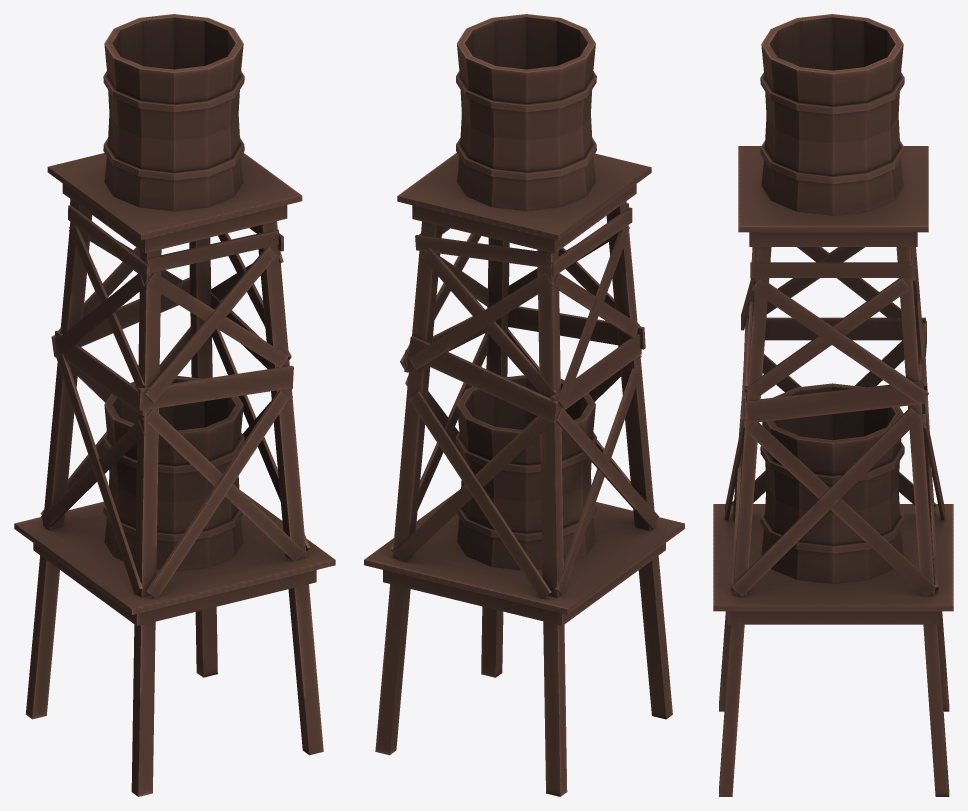
File: Water_tower_2.fbx
The picture shows the model from 3 angles, left to right: view 1: azimuth 30°, elevation 25°; view 2: azimuth 150°, elevation 25°; view 3: azimuth 270°, elevation 25°; orthographic projection. The views are drawn at different scales.
Parts seen in each view (by area): view 1: Water_tower_2; view 2: Water_tower_2; view 3: Water_tower_2.
Part boxes in pixels (x1,y1,x2,y2): Water_tower_2: (14,14,335,796); Water_tower_2: (364,14,684,796); Water_tower_2: (713,14,953,796).
Bounding box in the file's own units: 94.08 × 305 × 94.08.
